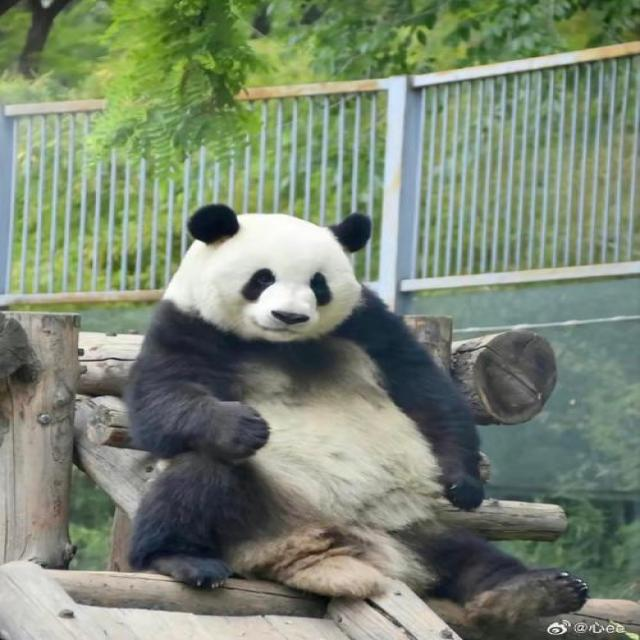panda: (123, 200, 609, 632)
